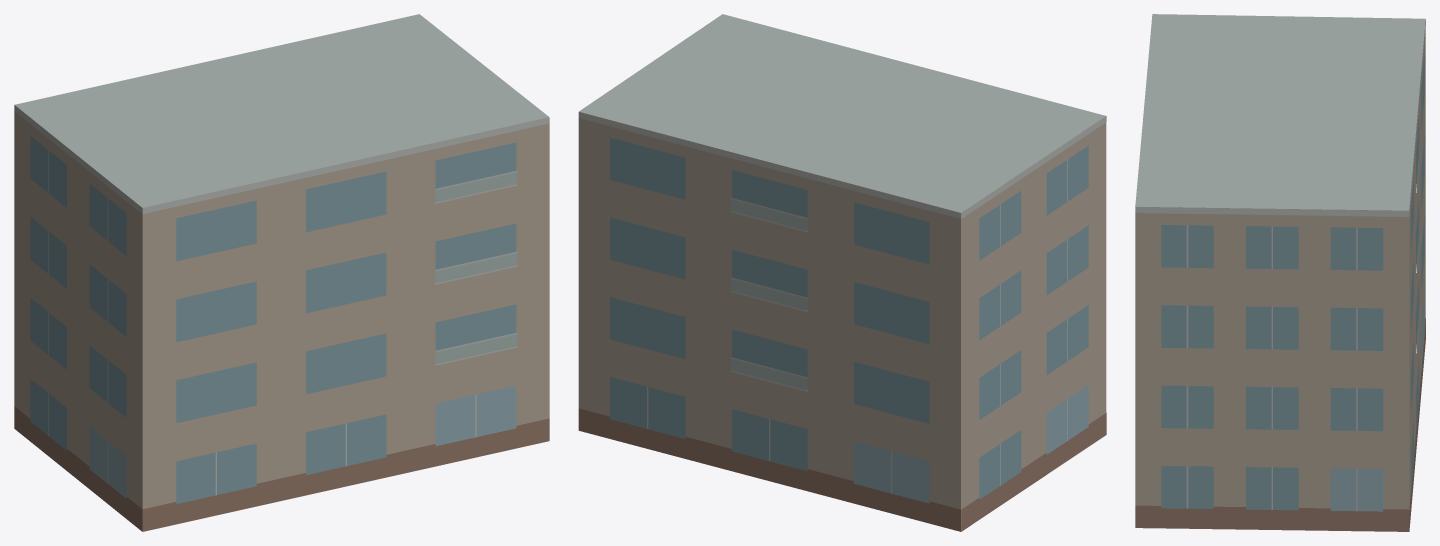
File: survey-upis-32654641.glb
The picture shows the model from 3 angles, left to right: view 1: azimuth 30°, elevation 25°; view 2: azimuth 150°, elevation 25°; view 3: azimuth 270°, elevation 25°; orthographic projection.
Parts seen in each view (by area): view 1: survey-upis-32654641.tmp; view 2: survey-upis-32654641.tmp; view 3: survey-upis-32654641.tmp.
Boxes of the visible parts, bbox=[...] form: survey-upis-32654641.tmp: bbox=[14, 14, 549, 531]; survey-upis-32654641.tmp: bbox=[578, 14, 1106, 531]; survey-upis-32654641.tmp: bbox=[1135, 14, 1425, 531].
Size of the model in its own units: 16.49 by 12.55 by 10.3.
